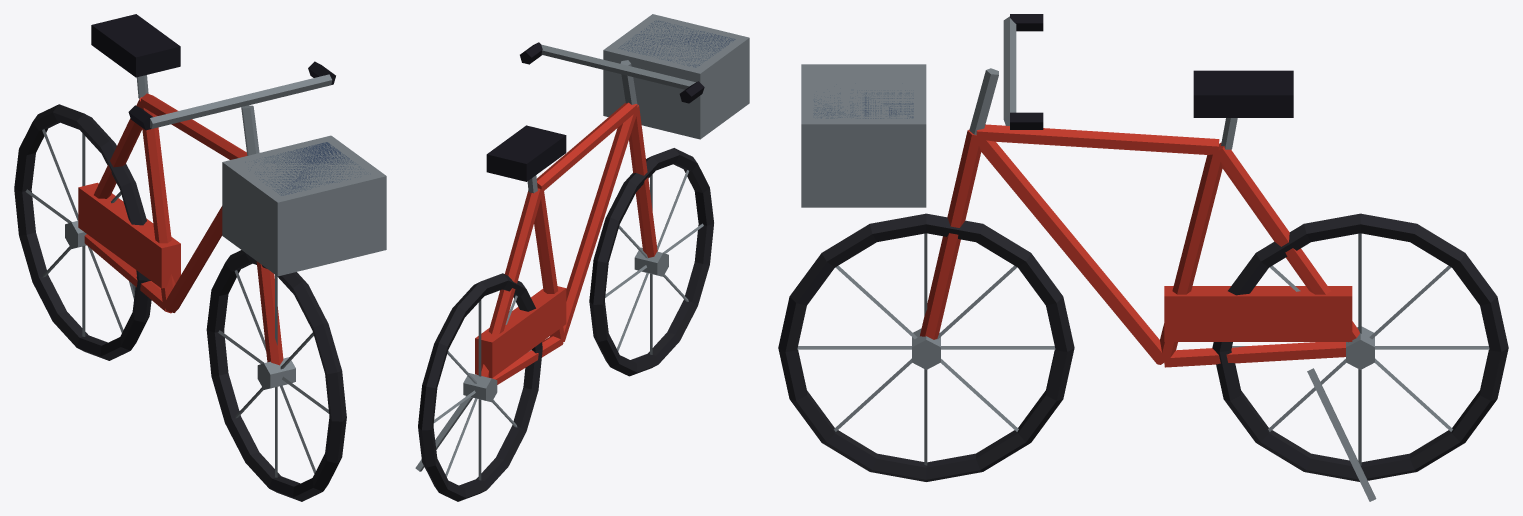
File: Bicycle.fbx
3 views of the same model, side by side, from view 1: azimuth 30°, elevation 25°; view 2: azimuth 150°, elevation 25°; view 3: azimuth 270°, elevation 25° (orthographic). The views are drawn at different scales.
Visible parts, largest first — view 1: Bicycle; view 2: Bicycle; view 3: Bicycle.
Boxes of the visible parts, x1,y1,x2,y2 form: Bicycle: [14, 14, 386, 501]; Bicycle: [415, 14, 749, 501]; Bicycle: [778, 14, 1508, 501].
Size of the model in its own units: 0.6018 by 1.11 by 1.75.
